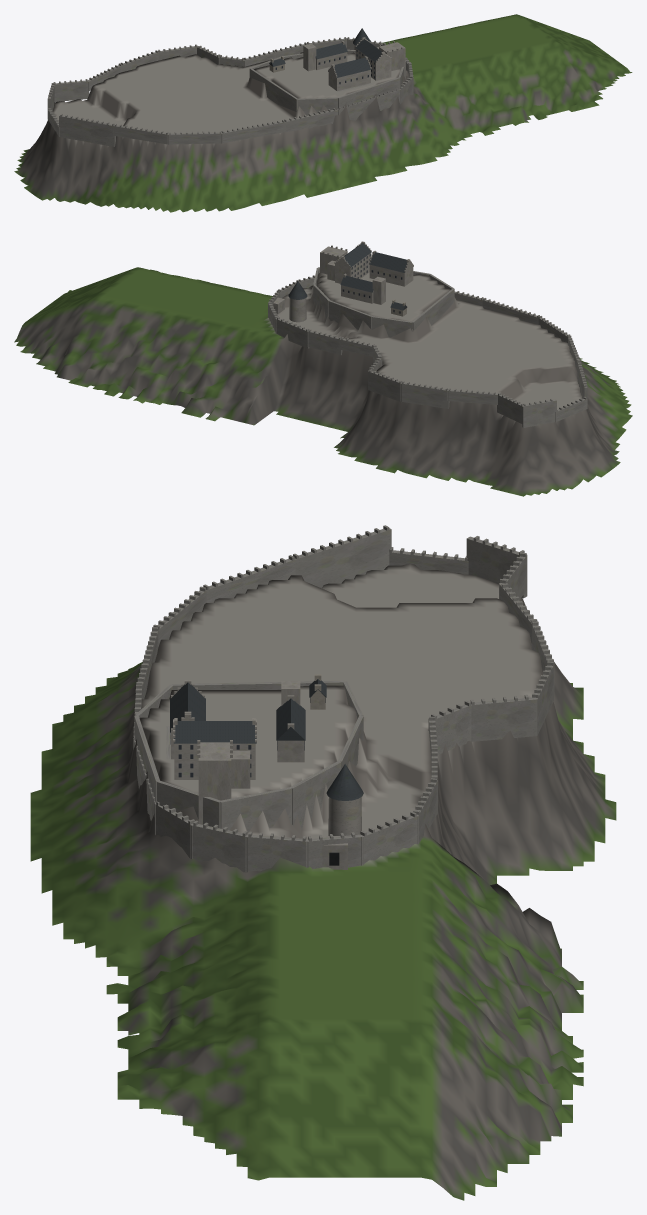
The model's file is edinburgh-castle-b55.glb.
3 renders of one model, top to bottom at view 1: azimuth 30°, elevation 25°; view 2: azimuth 150°, elevation 25°; view 3: azimuth 270°, elevation 25°, orthographic. The views are drawn at different scales.
Bounding box in the file's own units: 48 × 8.97 × 21.6.
10 materials, 8 textured.
